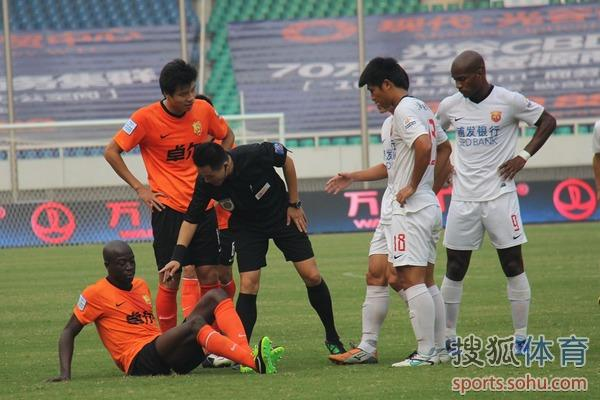bending: (171, 138, 349, 363), (34, 245, 279, 381)
up: (427, 47, 556, 362), (102, 57, 241, 312), (358, 63, 451, 365)
